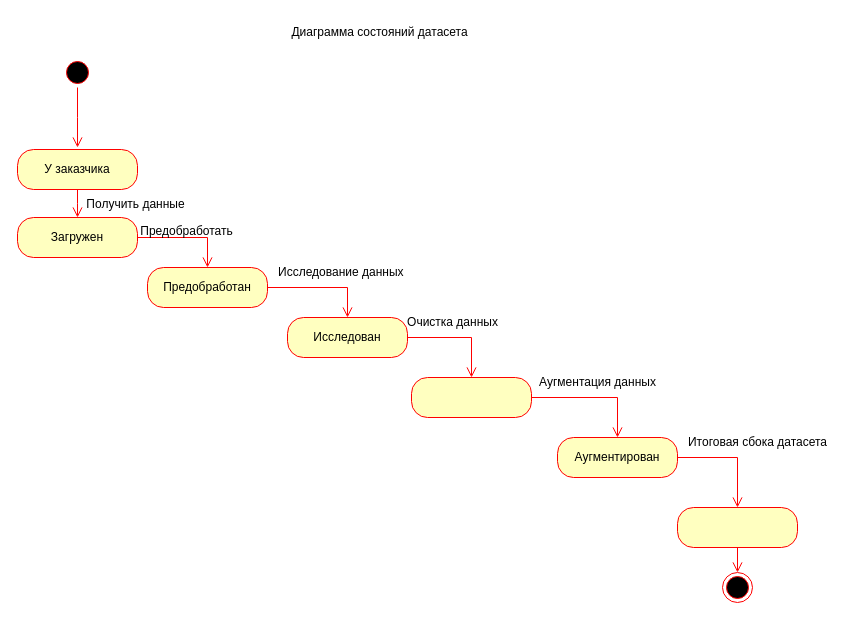
This 855x620 diagram has some shape labels left out. Here are the shapes that lost their labels. From the top down, the centre of each, then its label:
At point 471,397: "Очищен".
At point 737,527: "Готов".
